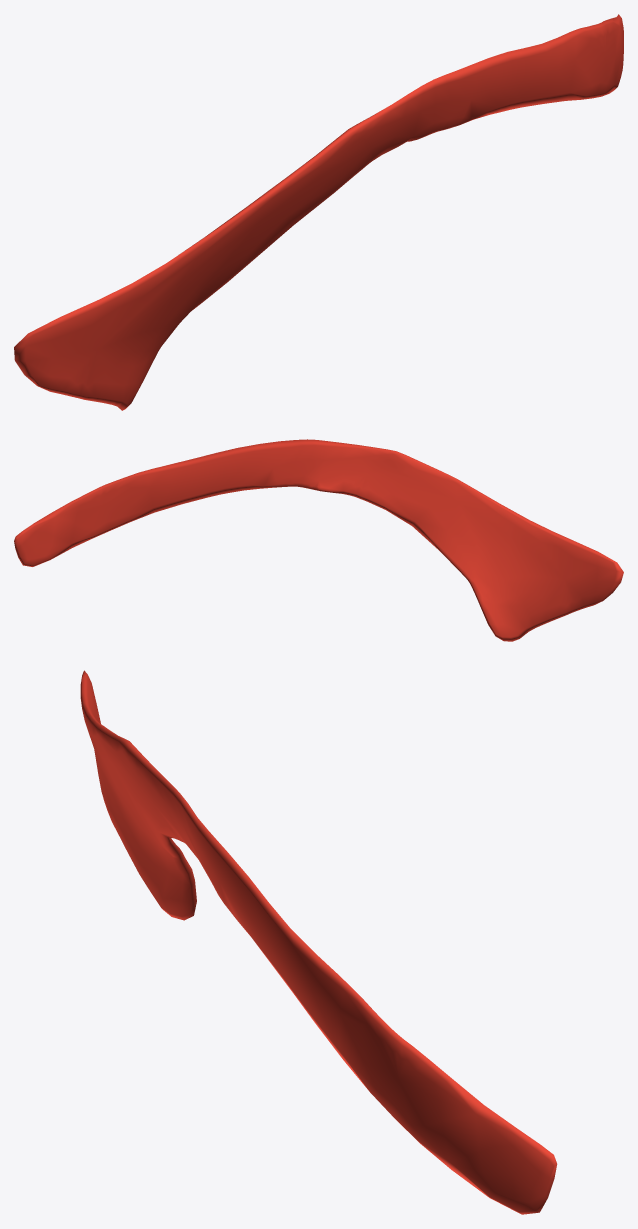
The model's file is Frontalis-_Insertion.l_Generated_Mesh_From_X3D.940.glb.
3 renders of one model, top to bottom at view 1: azimuth 30°, elevation 25°; view 2: azimuth 150°, elevation 25°; view 3: azimuth 270°, elevation 25°, orthographic. The views are drawn at different scales.
Visible parts, largest first — view 1: Frontalis-_Insertion.l_Generated_Mesh_From_X3D.940; view 2: Frontalis-_Insertion.l_Generated_Mesh_From_X3D.940; view 3: Frontalis-_Insertion.l_Generated_Mesh_From_X3D.940.
Boxes of the visible parts, box(x1,y1,x2,y2) form: Frontalis-_Insertion.l_Generated_Mesh_From_X3D.940: box(14, 14, 623, 410); Frontalis-_Insertion.l_Generated_Mesh_From_X3D.940: box(14, 439, 623, 641); Frontalis-_Insertion.l_Generated_Mesh_From_X3D.940: box(80, 670, 557, 1214).
Size of the model in its own units: 0.0496 by 0.015 by 0.0208.
